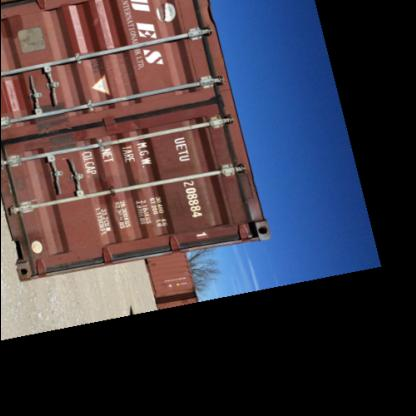Damage: (233, 169, 264, 206), (92, 171, 125, 203), (192, 1, 218, 36), (173, 191, 195, 218), (88, 16, 110, 31), (133, 112, 149, 132)
